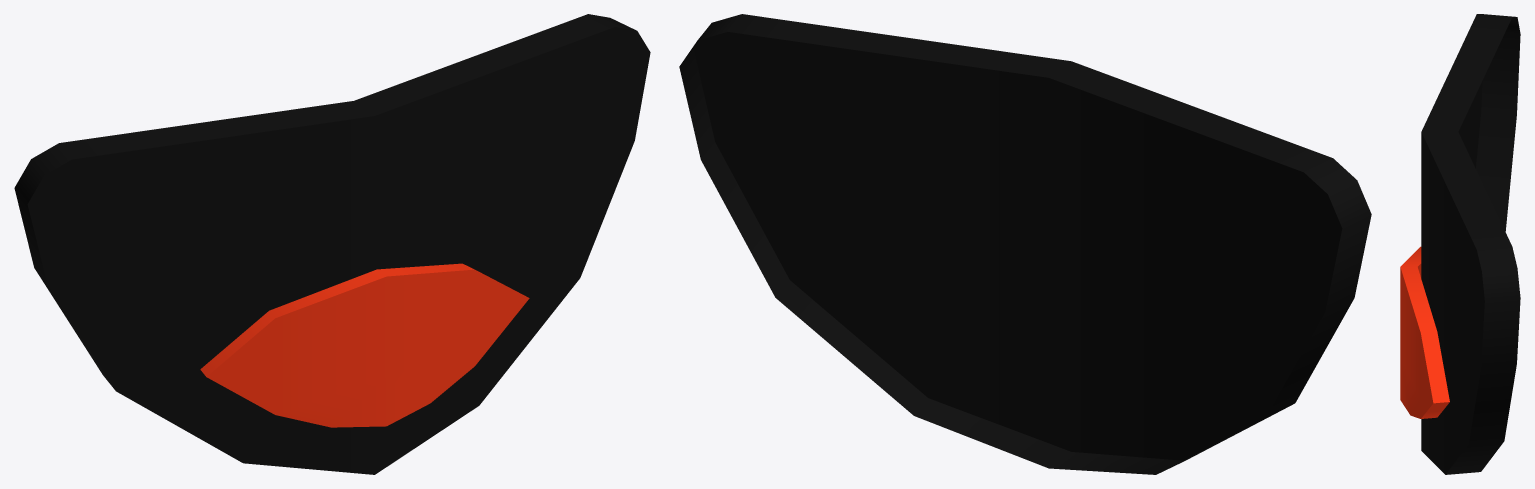
The model's file is Mouth_Laugh_01.fbx.
3 views of the same model, side by side, from view 1: azimuth 30°, elevation 25°; view 2: azimuth 150°, elevation 25°; view 3: azimuth 270°, elevation 25° (orthographic). The views are drawn at different scales.
Parts seen in each view (by area): view 1: Mouth_Laugh_01; view 2: Mouth_Laugh_01; view 3: Mouth_Laugh_01.
Boxes of the visible parts, x1,y1,x2,y2 form: Mouth_Laugh_01: [14, 14, 650, 474]; Mouth_Laugh_01: [679, 14, 1371, 474]; Mouth_Laugh_01: [1400, 14, 1520, 474].
Bounding box in the file's own units: 35.18 × 19.36 × 6.61.
